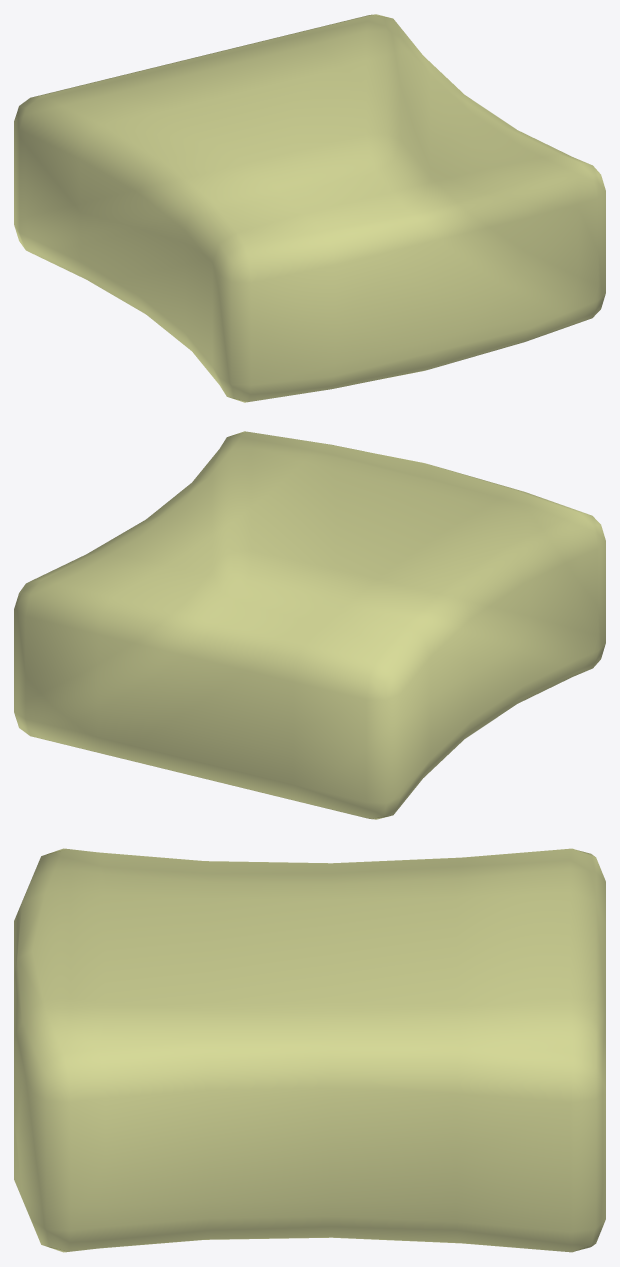
File: MeshSoapBottleVolume_18_1.obj
3 renders of one model, top to bottom at view 1: azimuth 30°, elevation 25°; view 2: azimuth 150°, elevation 25°; view 3: azimuth 270°, elevation 25°, orthographic. The views are drawn at different scales.
Parts seen in each view (by area): view 1: SoapBottleVolume_18; view 2: SoapBottleVolume_18; view 3: SoapBottleVolume_18.
Part boxes in pixels (left/top/right/bottom): SoapBottleVolume_18: left=14, top=14, right=605, bottom=402; SoapBottleVolume_18: left=14, top=431, right=605, bottom=819; SoapBottleVolume_18: left=14, top=848, right=605, bottom=1252.
Size of the model in its own units: 0.1153 by 0.0458 by 0.1235.
